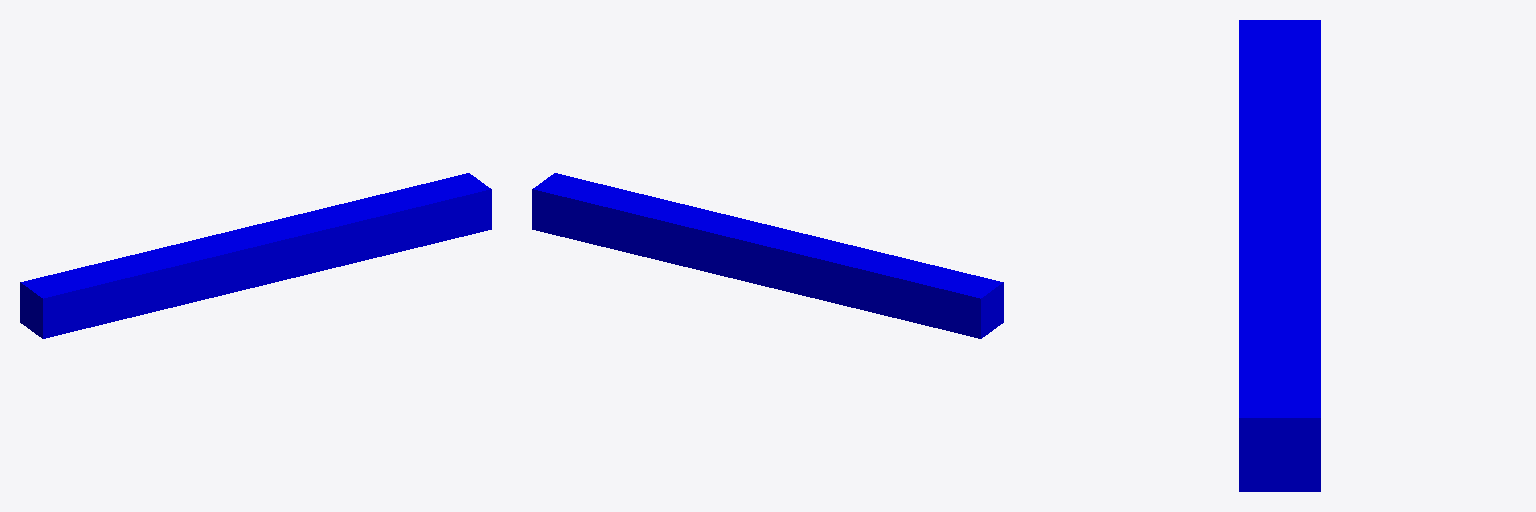
robot.urdf — snake:
<?xml version="1.0"?>
<robot name="snake">
  <material name="blue">
    <color rgba="0 0 1 1"/>
  </material>

  <link name="link0">
    <visual>
      <geometry>
        <box size="0.058 0.055 0.055"/>
      </geometry>
      <origin xyz="0.029 0 0"/>
      <material name="blue"/>
    </visual>
    <collision>
      <geometry>
        <box size="0.058 0.055 0.055"/>
      </geometry>
      <origin xyz="0.029 0 0"/>
    </collision>
    <inertial>
      <mass value="0.1"/>
      <origin xyz="0.029 0 0"/>
      <inertia ixx="0.0001" ixy="0" ixz="0" iyy="0.0001" iyz="0" izz="0.0001"/>
    </inertial>
  </link>

  <joint name="joint0" type="revolute">
    <parent link="link0"/>
    <child link="link1"/>
    <origin xyz="0.058 0 0"/>
    <axis xyz="0 0 1"/>
    <limit lower="-1.22173" upper="1.22173" effort="10" velocity="5"/>
  </joint>

  <link name="link1">
    <visual>
      <geometry>
        <box size="0.058 0.055 0.055"/>
      </geometry>
      <origin xyz="0.029 0 0"/>
      <material name="blue"/>
    </visual>
    <collision>
      <geometry>
        <box size="0.058 0.055 0.055"/>
      </geometry>
      <origin xyz="0.029 0 0"/>
    </collision>
    <inertial>
      <mass value="0.1"/>
      <origin xyz="0.029 0 0"/>
      <inertia ixx="0.0001" ixy="0" ixz="0" iyy="0.0001" iyz="0" izz="0.0001"/>
    </inertial>
  </link>

  <joint name="joint1" type="revolute">
    <parent link="link1"/>
    <child link="link2"/>
    <origin xyz="0.058 0 0"/>
    <axis xyz="0 0 1"/>
    <limit lower="-1.22173" upper="1.22173" effort="10" velocity="5"/>
  </joint>

  <link name="link2">
    <visual>
      <geometry>
        <box size="0.058 0.055 0.055"/>
      </geometry>
      <origin xyz="0.029 0 0"/>
      <material name="blue"/>
    </visual>
    <collision>
      <geometry>
        <box size="0.058 0.055 0.055"/>
      </geometry>
      <origin xyz="0.029 0 0"/>
    </collision>
    <inertial>
      <mass value="0.1"/>
      <origin xyz="0.029 0 0"/>
      <inertia ixx="0.0001" ixy="0" ixz="0" iyy="0.0001" iyz="0" izz="0.0001"/>
    </inertial>
  </link>

  <joint name="joint2" type="revolute">
    <parent link="link2"/>
    <child link="link3"/>
    <origin xyz="0.058 0 0"/>
    <axis xyz="0 0 1"/>
    <limit lower="-1.22173" upper="1.22173" effort="10" velocity="5"/>
  </joint>

  <link name="link3">
    <visual>
      <geometry>
        <box size="0.058 0.055 0.055"/>
      </geometry>
      <origin xyz="0.029 0 0"/>
      <material name="blue"/>
    </visual>
    <collision>
      <geometry>
        <box size="0.058 0.055 0.055"/>
      </geometry>
      <origin xyz="0.029 0 0"/>
    </collision>
    <inertial>
      <mass value="0.1"/>
      <origin xyz="0.029 0 0"/>
      <inertia ixx="0.0001" ixy="0" ixz="0" iyy="0.0001" iyz="0" izz="0.0001"/>
    </inertial>
  </link>

  <joint name="joint3" type="revolute">
    <parent link="link3"/>
    <child link="link4"/>
    <origin xyz="0.058 0 0"/>
    <axis xyz="0 0 1"/>
    <limit lower="-1.22173" upper="1.22173" effort="10" velocity="5"/>
  </joint>

  <link name="link4">
    <visual>
      <geometry>
        <box size="0.058 0.055 0.055"/>
      </geometry>
      <origin xyz="0.029 0 0"/>
      <material name="blue"/>
    </visual>
    <collision>
      <geometry>
        <box size="0.058 0.055 0.055"/>
      </geometry>
      <origin xyz="0.029 0 0"/>
    </collision>
    <inertial>
      <mass value="0.1"/>
      <origin xyz="0.029 0 0"/>
      <inertia ixx="0.0001" ixy="0" ixz="0" iyy="0.0001" iyz="0" izz="0.0001"/>
    </inertial>
  </link>

  <joint name="joint4" type="revolute">
    <parent link="link4"/>
    <child link="link5"/>
    <origin xyz="0.058 0 0"/>
    <axis xyz="0 0 1"/>
    <limit lower="-1.22173" upper="1.22173" effort="10" velocity="5"/>
  </joint>

  <link name="link5">
    <visual>
      <geometry>
        <box size="0.058 0.055 0.055"/>
      </geometry>
      <origin xyz="0.029 0 0"/>
      <material name="blue"/>
    </visual>
    <collision>
      <geometry>
        <box size="0.058 0.055 0.055"/>
      </geometry>
      <origin xyz="0.029 0 0"/>
    </collision>
    <inertial>
      <mass value="0.1"/>
      <origin xyz="0.029 0 0"/>
      <inertia ixx="0.0001" ixy="0" ixz="0" iyy="0.0001" iyz="0" izz="0.0001"/>
    </inertial>
  </link>

  <joint name="joint5" type="revolute">
    <parent link="link5"/>
    <child link="link6"/>
    <origin xyz="0.058 0 0"/>
    <axis xyz="0 0 1"/>
    <limit lower="-1.22173" upper="1.22173" effort="10" velocity="5"/>
  </joint>

  <link name="link6">
    <visual>
      <geometry>
        <box size="0.058 0.055 0.055"/>
      </geometry>
      <origin xyz="0.029 0 0"/>
      <material name="blue"/>
    </visual>
    <collision>
      <geometry>
        <box size="0.058 0.055 0.055"/>
      </geometry>
      <origin xyz="0.029 0 0"/>
    </collision>
    <inertial>
      <mass value="0.1"/>
      <origin xyz="0.029 0 0"/>
      <inertia ixx="0.0001" ixy="0" ixz="0" iyy="0.0001" iyz="0" izz="0.0001"/>
    </inertial>
  </link>

  <joint name="joint6" type="revolute">
    <parent link="link6"/>
    <child link="link7"/>
    <origin xyz="0.058 0 0"/>
    <axis xyz="0 0 1"/>
    <limit lower="-1.22173" upper="1.22173" effort="10" velocity="5"/>
  </joint>

  <link name="link7">
    <visual>
      <geometry>
        <box size="0.058 0.055 0.055"/>
      </geometry>
      <origin xyz="0.029 0 0"/>
      <material name="blue"/>
    </visual>
    <collision>
      <geometry>
        <box size="0.058 0.055 0.055"/>
      </geometry>
      <origin xyz="0.029 0 0"/>
    </collision>
    <inertial>
      <mass value="0.1"/>
      <origin xyz="0.029 0 0"/>
      <inertia ixx="0.0001" ixy="0" ixz="0" iyy="0.0001" iyz="0" izz="0.0001"/>
    </inertial>
  </link>

  <joint name="joint7" type="revolute">
    <parent link="link7"/>
    <child link="link8"/>
    <origin xyz="0.058 0 0"/>
    <axis xyz="0 0 1"/>
    <limit lower="-1.22173" upper="1.22173" effort="10" velocity="5"/>
  </joint>

  <link name="link8">
    <visual>
      <geometry>
        <box size="0.058 0.055 0.055"/>
      </geometry>
      <origin xyz="0.029 0 0"/>
      <material name="blue"/>
    </visual>
    <collision>
      <geometry>
        <box size="0.058 0.055 0.055"/>
      </geometry>
      <origin xyz="0.029 0 0"/>
    </collision>
    <inertial>
      <mass value="0.1"/>
      <origin xyz="0.029 0 0"/>
      <inertia ixx="0.0001" ixy="0" ixz="0" iyy="0.0001" iyz="0" izz="0.0001"/>
    </inertial>
  </link>

  <joint name="joint8" type="revolute">
    <parent link="link8"/>
    <child link="link9"/>
    <origin xyz="0.058 0 0"/>
    <axis xyz="0 0 1"/>
    <limit lower="-1.22173" upper="1.22173" effort="10" velocity="5"/>
  </joint>

  <link name="link9">
    <visual>
      <geometry>
        <box size="0.058 0.055 0.055"/>
      </geometry>
      <origin xyz="0.029 0 0"/>
      <material name="blue"/>
    </visual>
    <collision>
      <geometry>
        <box size="0.058 0.055 0.055"/>
      </geometry>
      <origin xyz="0.029 0 0"/>
    </collision>
    <inertial>
      <mass value="0.1"/>
      <origin xyz="0.029 0 0"/>
      <inertia ixx="0.0001" ixy="0" ixz="0" iyy="0.0001" iyz="0" izz="0.0001"/>
    </inertial>
  </link>

  <joint name="joint9" type="revolute">
    <parent link="link9"/>
    <child link="link10"/>
    <origin xyz="0.058 0 0"/>
    <axis xyz="0 0 1"/>
    <limit lower="-1.22173" upper="1.22173" effort="10" velocity="5"/>
  </joint>

  <link name="link10">
    <visual>
      <geometry>
        <box size="0.058 0.055 0.055"/>
      </geometry>
      <origin xyz="0.029 0 0"/>
      <material name="blue"/>
    </visual>
    <collision>
      <geometry>
        <box size="0.058 0.055 0.055"/>
      </geometry>
      <origin xyz="0.029 0 0"/>
    </collision>
    <inertial>
      <mass value="0.1"/>
      <origin xyz="0.029 0 0"/>
      <inertia ixx="0.0001" ixy="0" ixz="0" iyy="0.0001" iyz="0" izz="0.0001"/>
    </inertial>
  </link>


</robot>

--- What the picture shows (computed from the rendered views, not written in the file) ---
Views: 3 orthographic renders of the robot side by side, from view 1: azimuth 30°, elevation 25°; view 2: azimuth 150°, elevation 25°; view 3: azimuth 270°, elevation 25°.
Model snake with 11 links and 10 joints (10 revolute), rooted at link0, posed all joints at 0.
Links seen in each view (by area): view 1: link0, link4, link5, link10, link8, link2, link3, link7, link9, link6, link1; view 2: link0, link4, link5, link10, link8, link2, link3, link7, link9, link6, link1; view 3: link10, link0, link7, link1, link2, link3, link4, link5, link6, link8, link9.
Boxes of the visible links, x1=… form: link0: x1=20, y1=273, x2=83, y2=338; link4: x1=184, y1=233, x2=246, y2=298; link5: x1=225, y1=223, x2=287, y2=288; link10: x1=429, y1=173, x2=491, y2=238; link8: x1=348, y1=193, x2=409, y2=258; link2: x1=102, y1=253, x2=164, y2=318; link3: x1=143, y1=243, x2=205, y2=308; link7: x1=307, y1=203, x2=368, y2=268; link9: x1=389, y1=183, x2=450, y2=248; link6: x1=266, y1=213, x2=327, y2=278; link1: x1=61, y1=263, x2=123, y2=328; link0: x1=940, y1=273, x2=1003, y2=338; link4: x1=777, y1=233, x2=839, y2=298; link5: x1=736, y1=223, x2=798, y2=288; link10: x1=532, y1=173, x2=594, y2=238; link8: x1=614, y1=193, x2=675, y2=258; link2: x1=859, y1=253, x2=921, y2=318; link3: x1=818, y1=243, x2=880, y2=308; link7: x1=655, y1=203, x2=716, y2=268; link9: x1=573, y1=183, x2=634, y2=248; link6: x1=696, y1=213, x2=757, y2=278; link1: x1=900, y1=263, x2=962, y2=328; link10: x1=1239, y1=382, x2=1320, y2=491; link0: x1=1239, y1=20, x2=1320, y2=56; link7: x1=1239, y1=273, x2=1320, y2=309; link1: x1=1239, y1=57, x2=1320, y2=92; link2: x1=1239, y1=93, x2=1320, y2=128; link3: x1=1239, y1=129, x2=1320, y2=164; link4: x1=1239, y1=165, x2=1320, y2=200; link5: x1=1239, y1=201, x2=1320, y2=236; link6: x1=1239, y1=237, x2=1320, y2=272; link8: x1=1239, y1=310, x2=1320, y2=345; link9: x1=1239, y1=346, x2=1320, y2=381.
Bounding box of the posed robot: 0.638 × 0.055 × 0.055 m (x, y, z).
Geometry: primitives only (box / cylinder / sphere), no mesh files.
